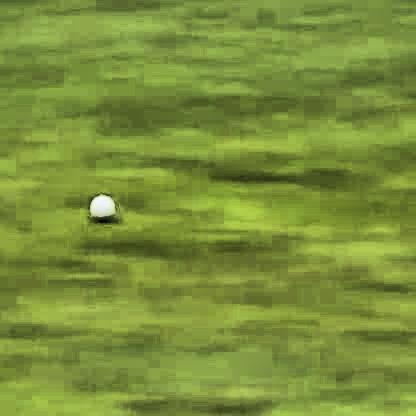golfball: (86, 189, 111, 219)
